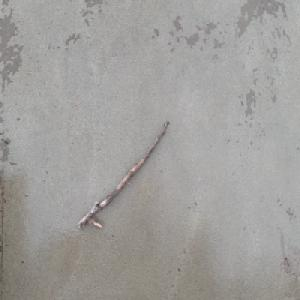Wood: (76, 118, 170, 231)
